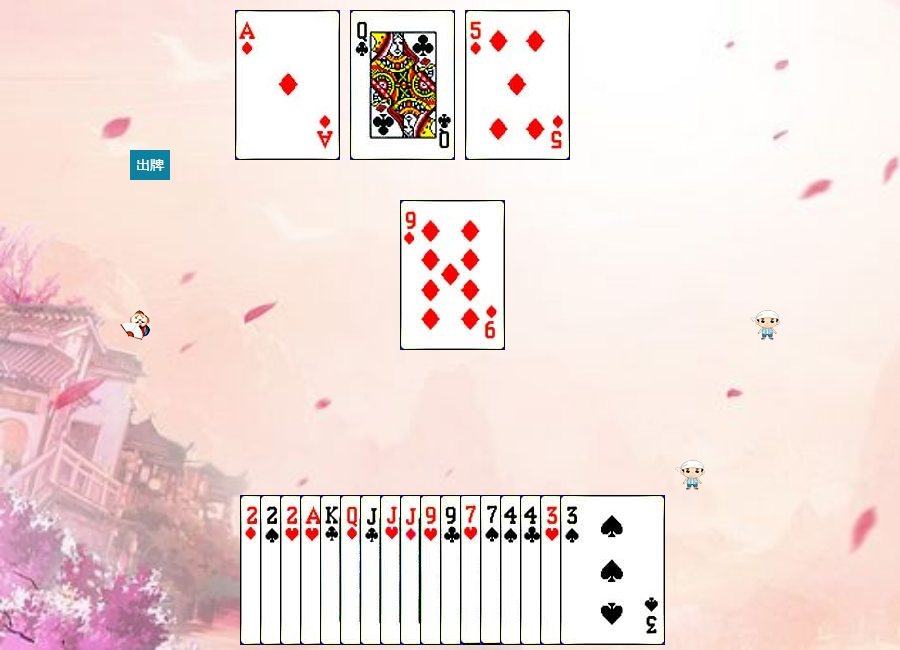11~1: (400, 495, 505, 645)
11~2: (360, 495, 465, 645)
11~3: (380, 495, 485, 645)
12~1: (340, 495, 445, 645)
12~2: (350, 10, 455, 160)
13~2: (320, 495, 425, 645)
14~1: (235, 10, 340, 160)
14~3: (300, 495, 405, 645)
15~1: (240, 495, 345, 645)
15~3: (280, 495, 385, 645)
15~4: (260, 495, 365, 645)
3~3: (540, 495, 645, 645)
3~4: (560, 495, 665, 645)
4~2: (520, 495, 625, 645)
4~4: (500, 495, 605, 645)
5~1: (465, 10, 570, 160)
7~3: (460, 495, 565, 645)
7~4: (480, 495, 585, 645)
9~1: (400, 200, 505, 350)
9~2: (440, 495, 545, 645)
9~3: (420, 495, 525, 645)
